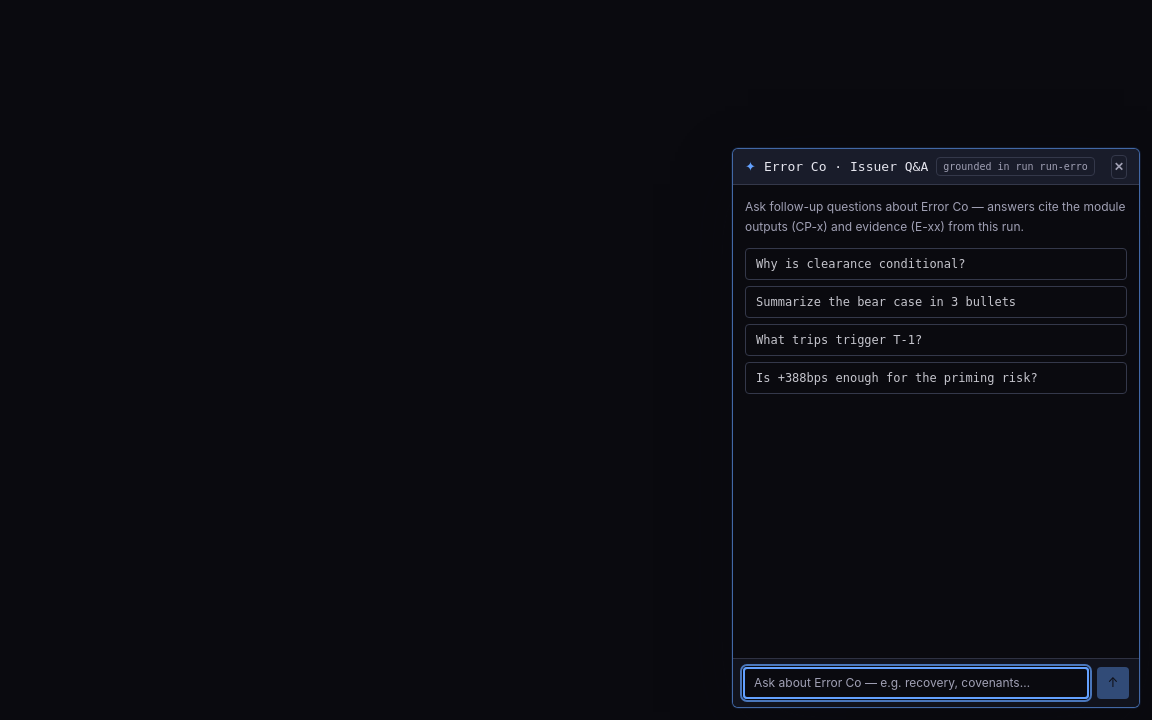
Test case: IssuerChat interactions › renders the most useful chat failure detail for {"response":{"data":{"detail":"backend detail"}}}
In the field named "Ask a question about this issuer": (916, 683) [743,667,1089,699], type "Explain"
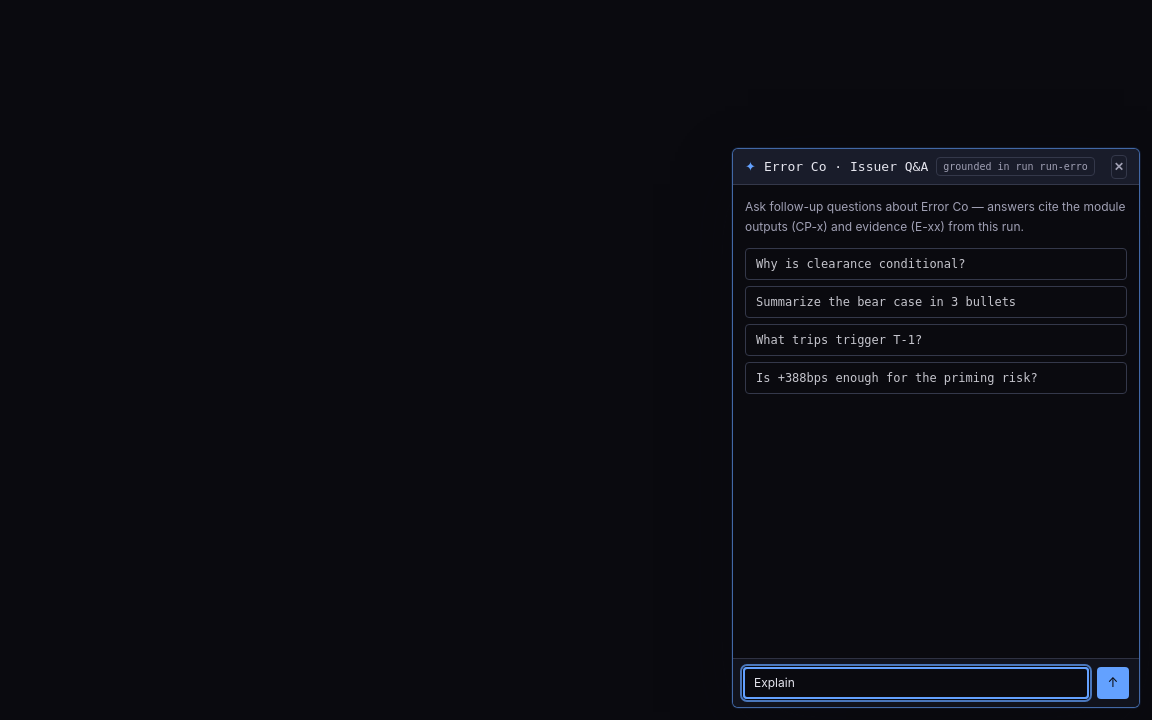
Click the button titled "Send": (1113, 683) [1097,667,1129,699]
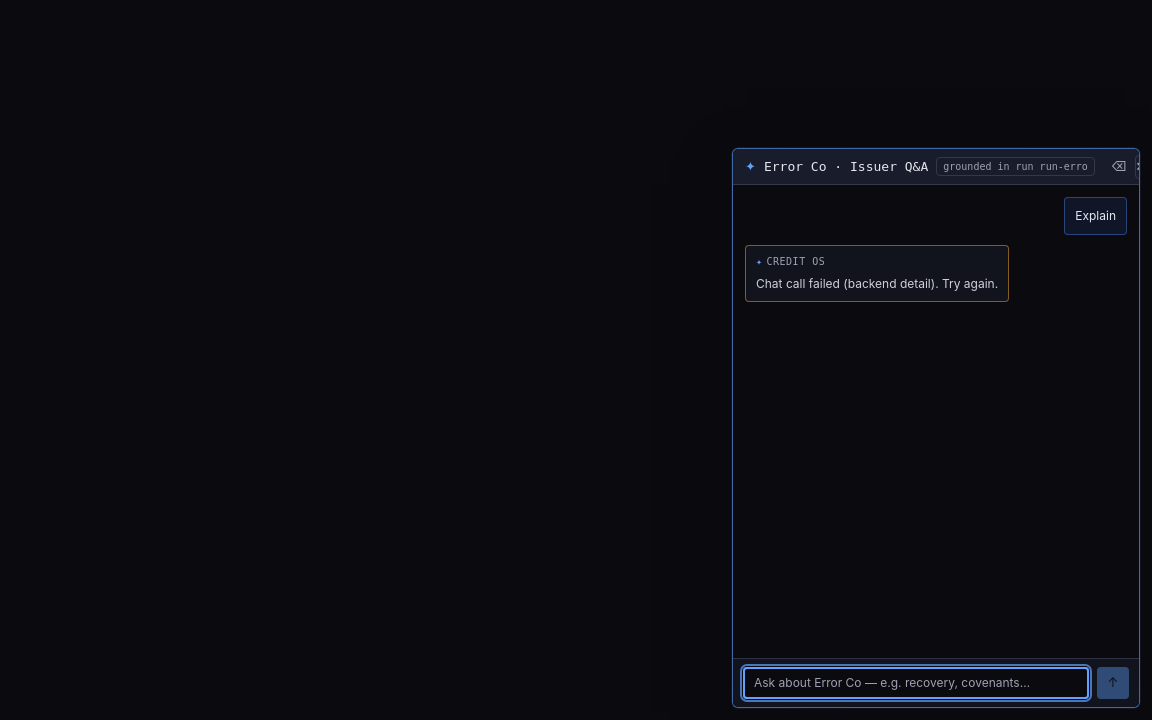
Expected: the text "Credit OS" is shown, [766,256,825,266]
